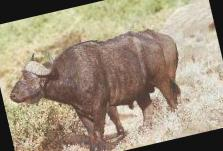Buffalo: (0, 15, 193, 146)
